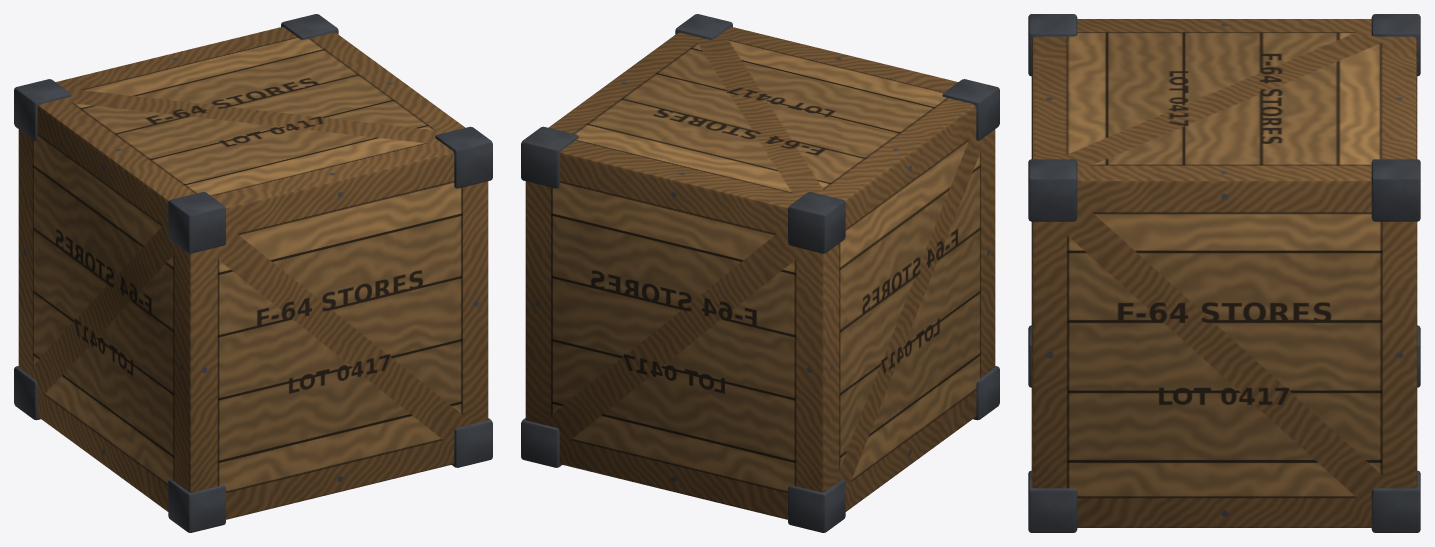
Rendered from prop_crate.glb.
3 views of the same model, side by side, from view 1: azimuth 30°, elevation 25°; view 2: azimuth 150°, elevation 25°; view 3: azimuth 270°, elevation 25° (orthographic). The views are drawn at different scales.
Parts seen in each view (by area): view 1: prop_crate; view 2: prop_crate; view 3: prop_crate.
Boxes of the visible parts, x1,y1,x2,y2 form: prop_crate: [14, 14, 492, 532]; prop_crate: [521, 14, 999, 532]; prop_crate: [1028, 14, 1420, 532].
Bounding box in the file's own units: 1.12 × 1.12 × 1.12.
Materials: 2 (2 with a texture image).
